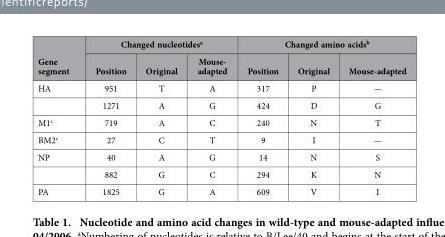table: (37, 37, 405, 197)
table column: (338, 37, 405, 197), (81, 37, 135, 197), (135, 37, 186, 197), (236, 37, 287, 197), (287, 37, 338, 197), (186, 37, 236, 197), (37, 37, 81, 197)
table column header: (37, 37, 405, 79)
table row: (37, 52, 405, 79), (37, 130, 405, 148), (37, 79, 405, 96), (37, 96, 405, 113), (37, 113, 405, 130), (37, 148, 405, 165), (37, 165, 405, 182), (37, 37, 405, 52), (37, 182, 405, 197)
table spanning cell: (236, 37, 405, 52), (81, 37, 236, 52), (37, 37, 81, 79), (37, 79, 81, 113), (37, 148, 81, 182)
